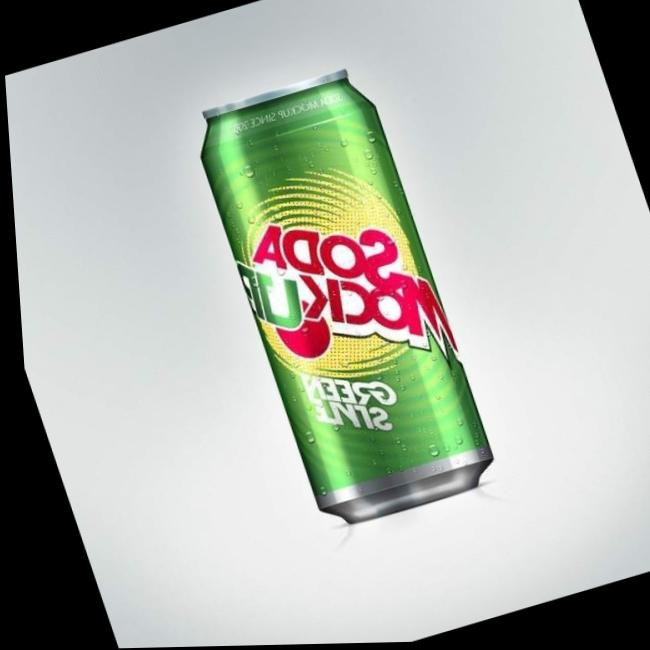metal: (202, 70, 491, 522)
